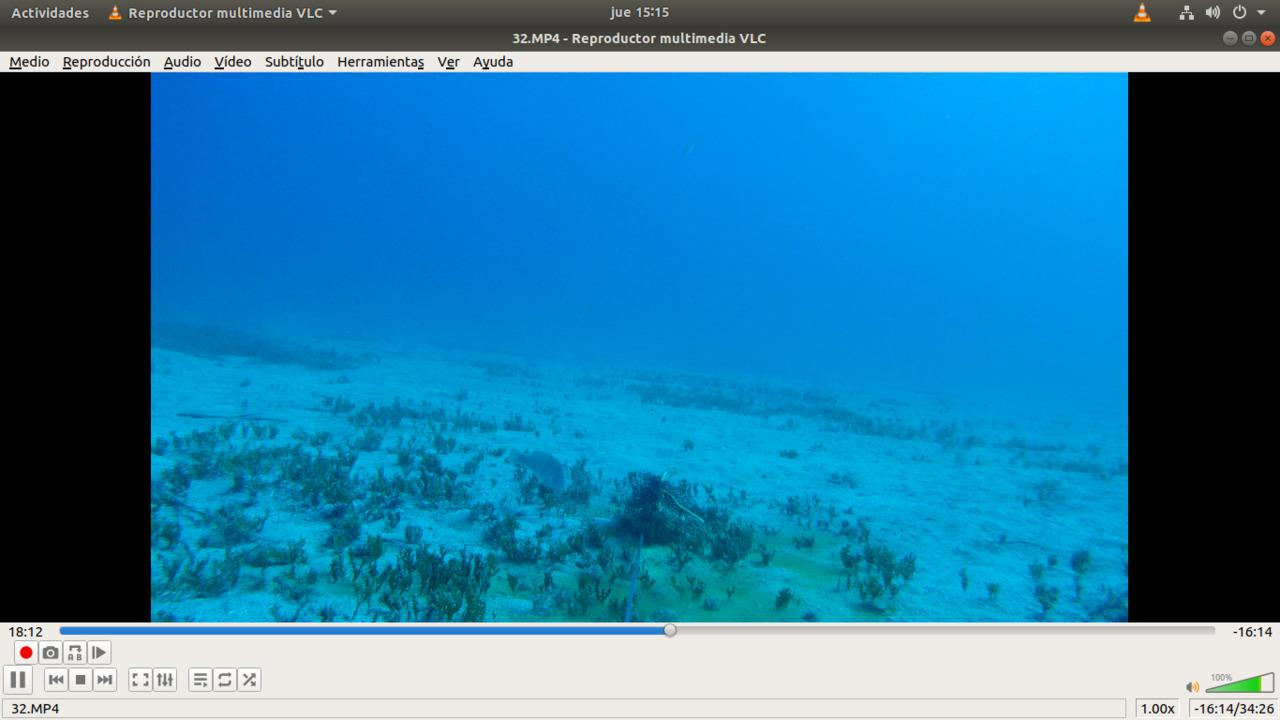raor: (501, 445, 574, 495)
